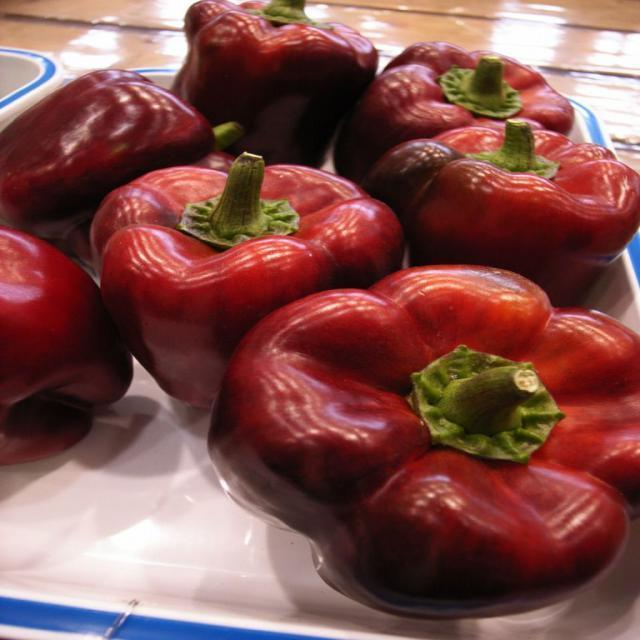Bell Pepper: (0, 0, 639, 619)
